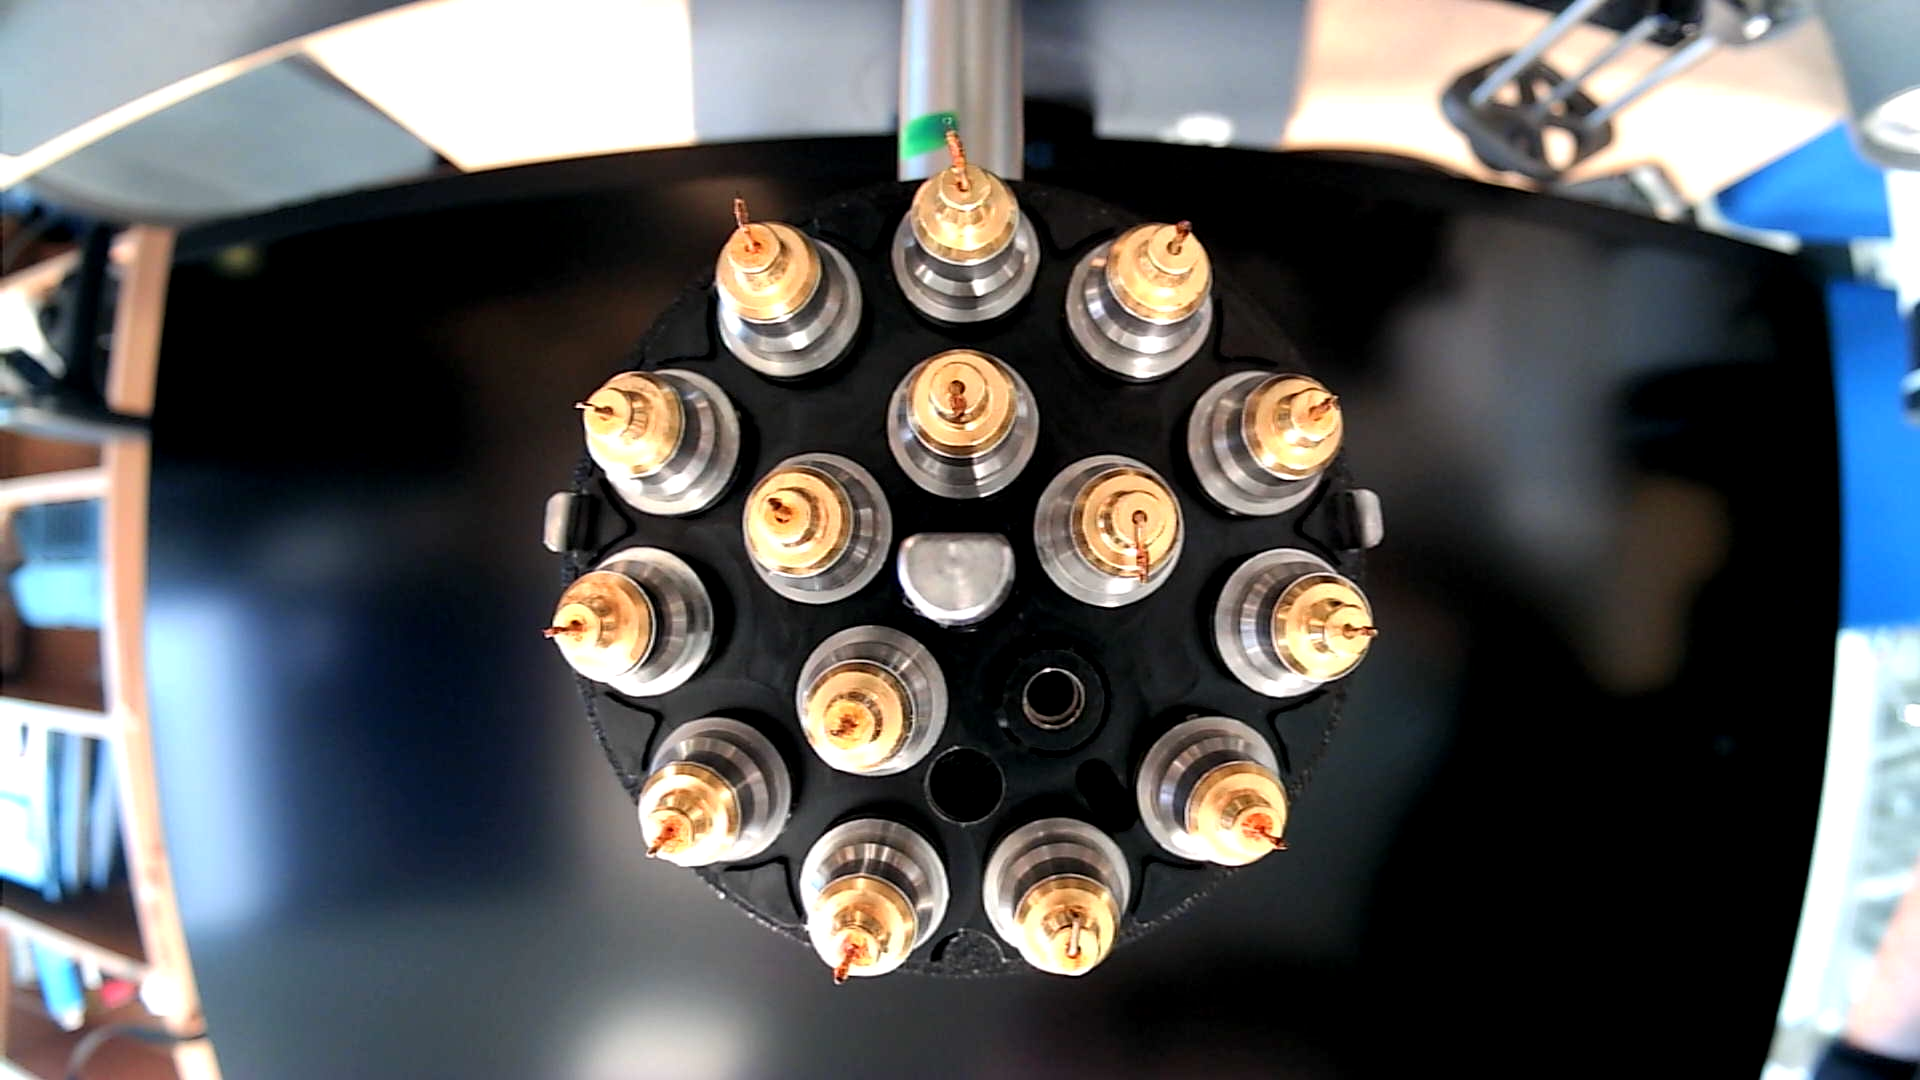bent: (887, 119, 1039, 326), (976, 814, 1134, 977), (880, 344, 1040, 502), (1033, 450, 1185, 613)
empty: (978, 633, 1117, 758)
hole: (924, 742, 1007, 832)
pin: (705, 193, 862, 386), (537, 545, 723, 702), (798, 808, 953, 986), (1203, 545, 1375, 702), (572, 365, 745, 520), (1131, 711, 1292, 872), (1064, 211, 1215, 382), (636, 713, 793, 874), (791, 622, 949, 779), (737, 450, 893, 607), (1185, 363, 1345, 516)
rod: (895, 527, 1022, 630)
